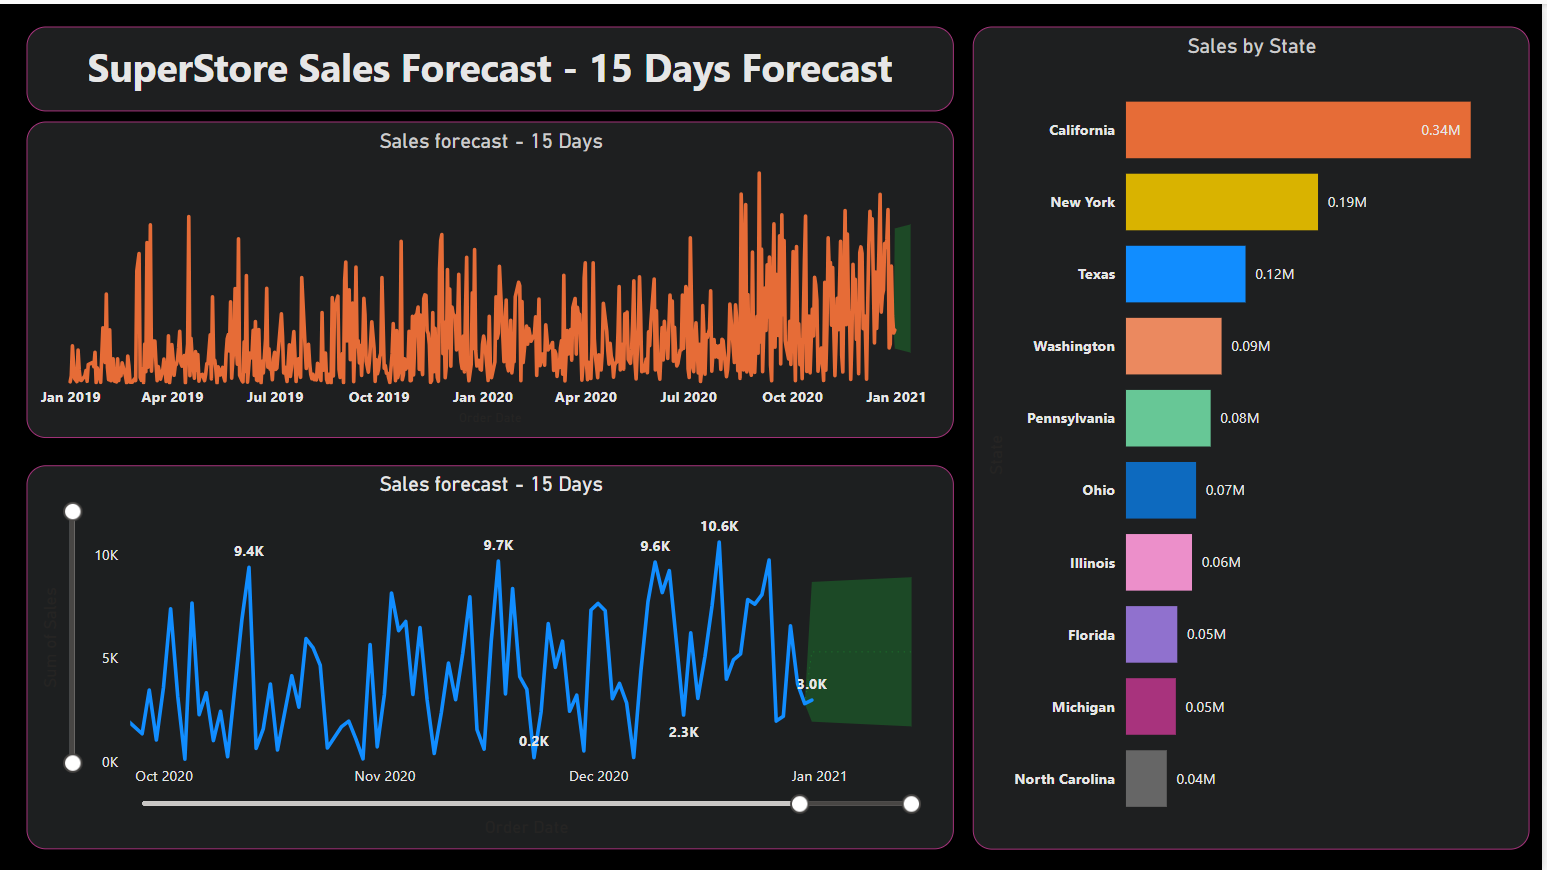

What the dashboard file says about the page in this screenshot:
{"tool":"powerbi","page":{"name":"Page 2","canvas":[1280,720],"ordinal":1},"visuals":[{"type":"lineChart","title":"Sales forecast - 15 Days","fields":{"Y":["Sum(SuperStore_Sales_Dataset (2).Sales)"],"Category":["SuperStore_Sales_Dataset (2).Order Date"]},"box":[22.5,97.5,768.8,262.5],"z":0},{"type":"lineChart","title":"Sales forecast - 15 Days","fields":{"Y":["Sum(SuperStore_Sales_Dataset (2).Sales)"],"Category":["SuperStore_Sales_Dataset (2).Order Date"]},"box":[22.5,382.5,768.8,318.8],"z":1000},{"type":"barChart","title":"Sales by State","fields":{"Y":["Sum(SuperStore_Sales_Dataset (2).Sales)"],"Category":["SuperStore_Sales_Dataset (2).State"]},"box":[807.5,18.8,461.2,682.5],"z":2000},{"type":"textbox","box":[22.5,18.8,768.8,70],"z":3000}]}

Visuals, with their boxes in screenshot pixels (x1, y1, x2, y2), scaled from the page's 1280x720 canvas onto the 1547x870 screenshot:
"Sales forecast - 15 Days" lineChart: locate(27, 118, 956, 435)
"Sales forecast - 15 Days" lineChart: locate(27, 462, 956, 847)
"Sales by State" barChart: locate(976, 23, 1533, 847)
textbox: locate(27, 23, 956, 107)
